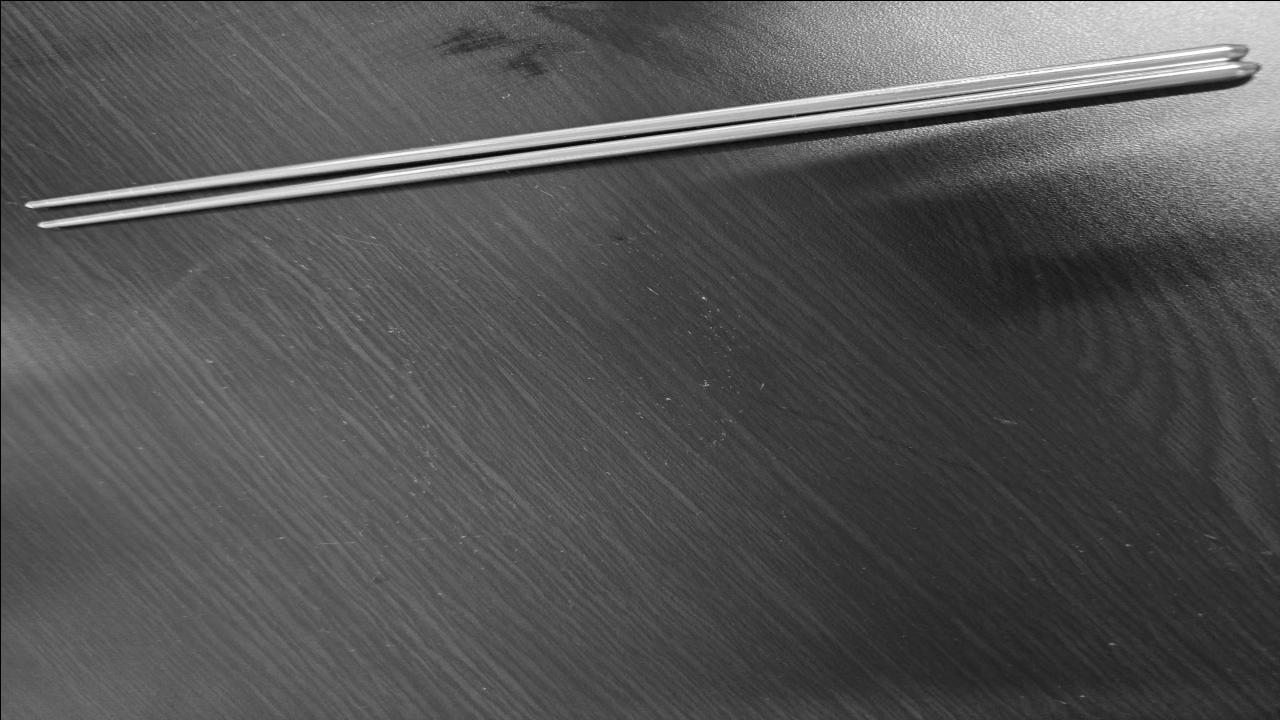chopstick: (11, 40, 1266, 233)
